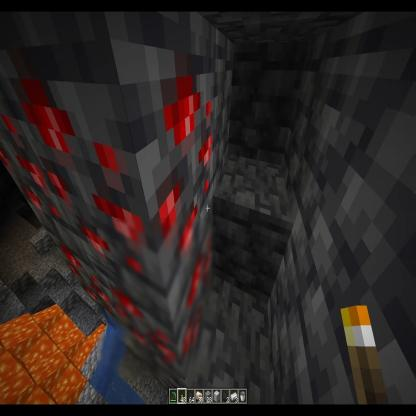redstone ore: (25, 19, 215, 310), (97, 218, 216, 378), (0, 74, 82, 250), (55, 241, 115, 334)
